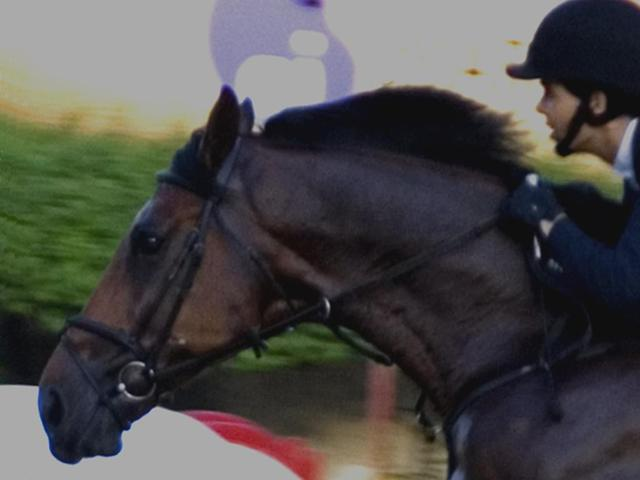horse: (11, 32, 593, 448)
